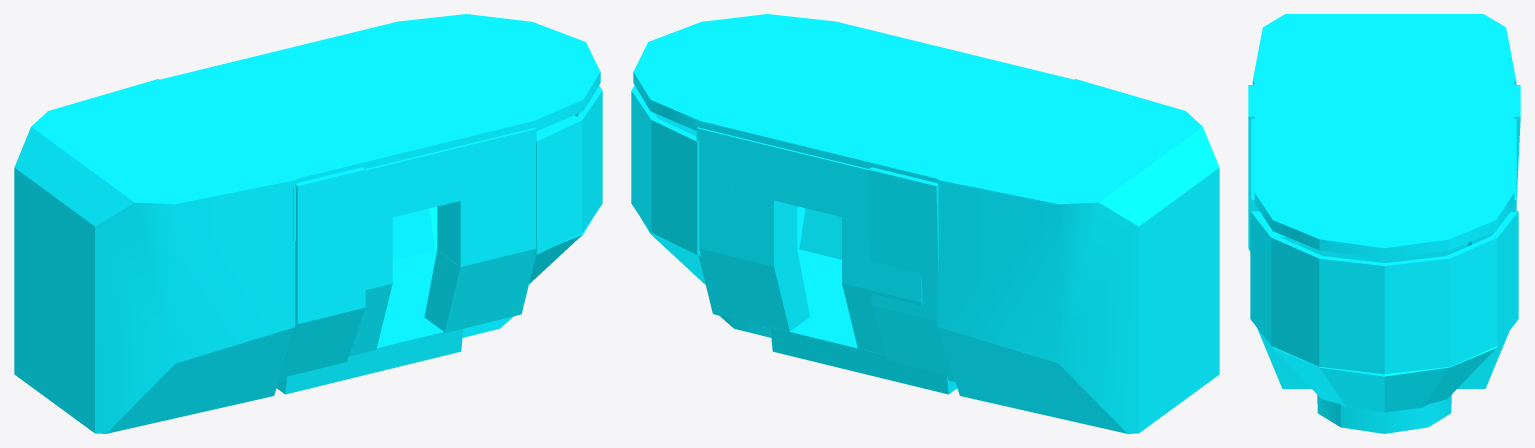
Rendered from SM_Bld_Blimp_01_Collision.fbx.
3 renders of one model, left to right at view 1: azimuth 30°, elevation 25°; view 2: azimuth 150°, elevation 25°; view 3: azimuth 270°, elevation 25°, orthographic. The views are drawn at different scales.
Parts seen in each view (by area): view 1: SM_Bld_Blimp_01_Collision; view 2: SM_Bld_Blimp_01_Collision; view 3: SM_Bld_Blimp_01_Collision.
Part boxes in pixels (x1,y1,x2,y2): SM_Bld_Blimp_01_Collision: (14, 14, 602, 433); SM_Bld_Blimp_01_Collision: (631, 14, 1219, 433); SM_Bld_Blimp_01_Collision: (1248, 14, 1520, 433).
Size of the model in its own units: 771 by 322 by 359.
